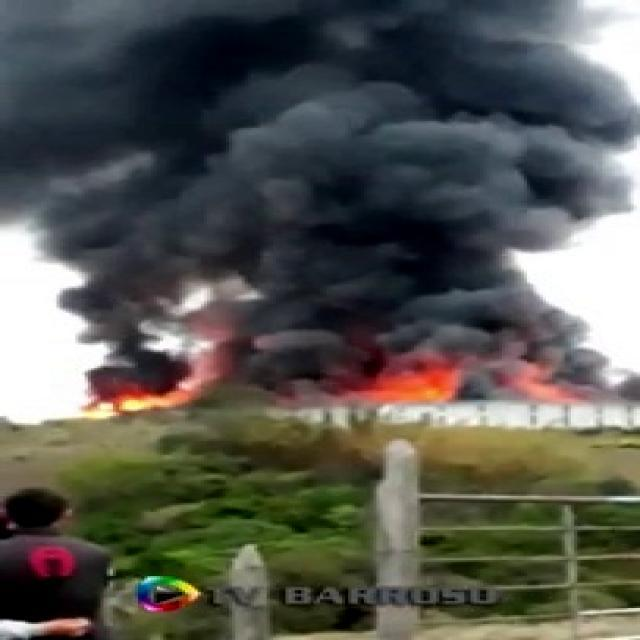Smoke: (0, 0, 616, 415)
